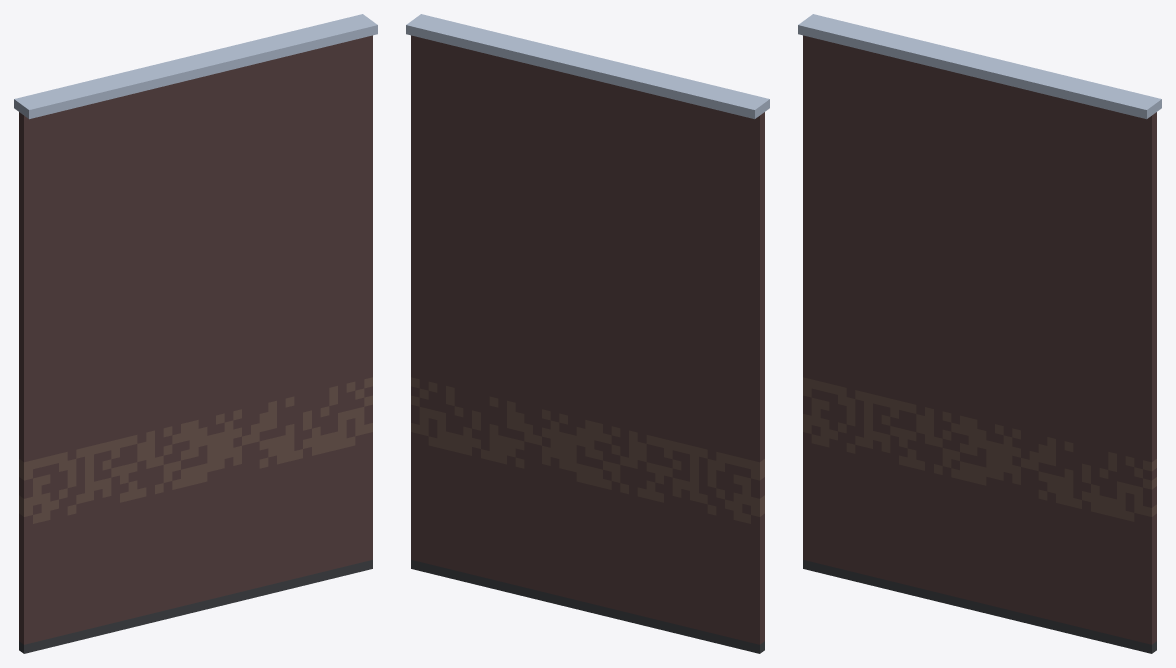
File: wall-library.obj
The picture shows the model from 3 angles, left to right: view 1: azimuth 30°, elevation 25°; view 2: azimuth 150°, elevation 25°; view 3: azimuth 330°, elevation 25°; orthographic projection.
Bounding box in the file's own units: 4 × 6 × 0.3.
Materials: 1 (1 with a texture image).
